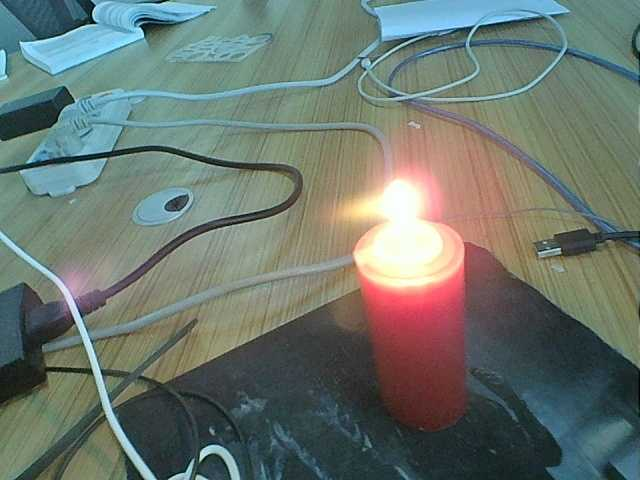candle: (341, 281, 491, 429)
fire: (355, 177, 452, 275)
